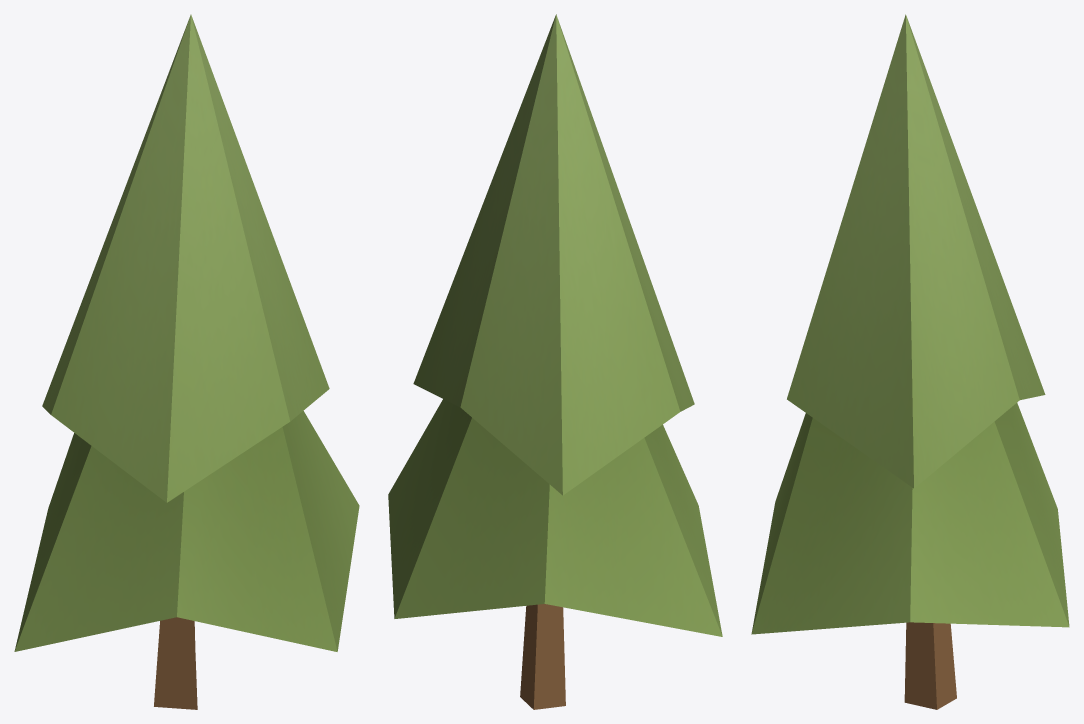
File: Pine_Tree_s_BT_06.fbx
The picture shows the model from 3 angles, left to right: view 1: azimuth 30°, elevation 25°; view 2: azimuth 150°, elevation 25°; view 3: azimuth 270°, elevation 25°; orthographic projection. The views are drawn at different scales.
Visible parts, largest first — view 1: Pine_Tree_s_BT_06; view 2: Pine_Tree_s_BT_06; view 3: Pine_Tree_s_BT_06.
Part boxes in pixels (<box>): Pine_Tree_s_BT_06: <box>14,14,359,709</box>; Pine_Tree_s_BT_06: <box>388,14,722,709</box>; Pine_Tree_s_BT_06: <box>751,14,1069,709</box>.
Size of the model in its own units: 108 by 209 by 87.99.
